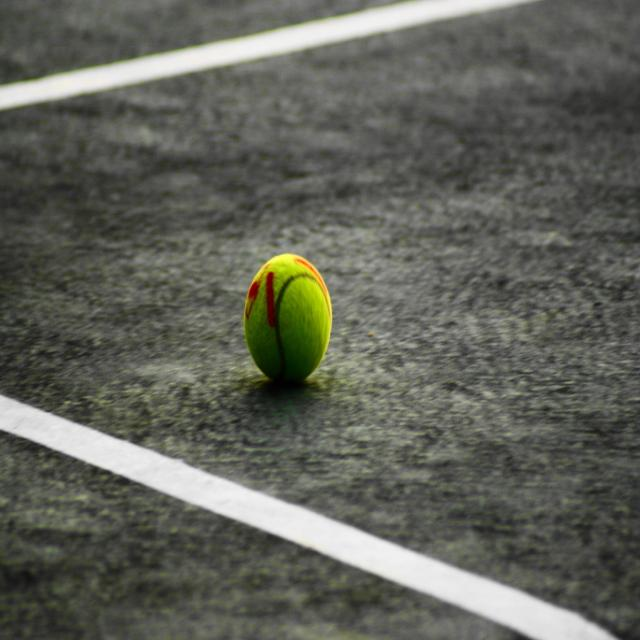Tennis ball: (245, 251, 334, 390)
